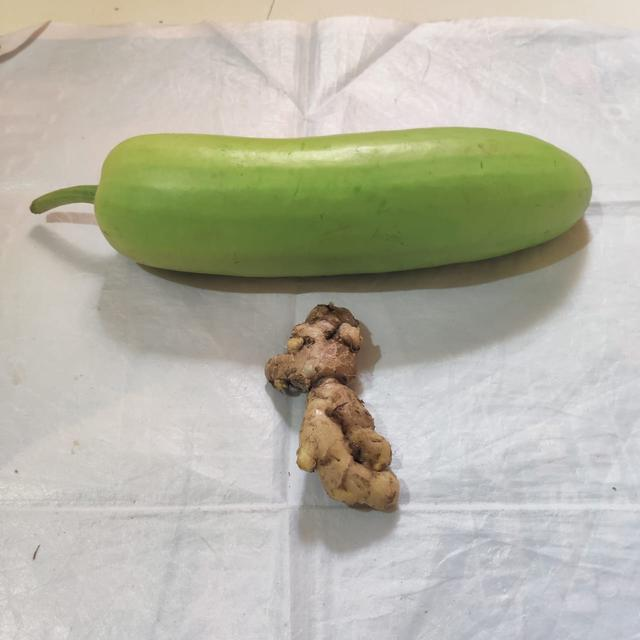Organik: (28, 129, 597, 272), (268, 302, 400, 511)
